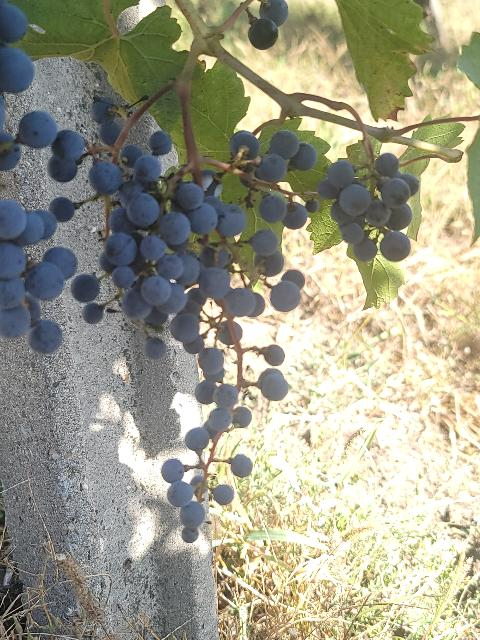grapes: (71, 130, 419, 541), (90, 149, 265, 452), (0, 200, 76, 354), (318, 154, 419, 262)
